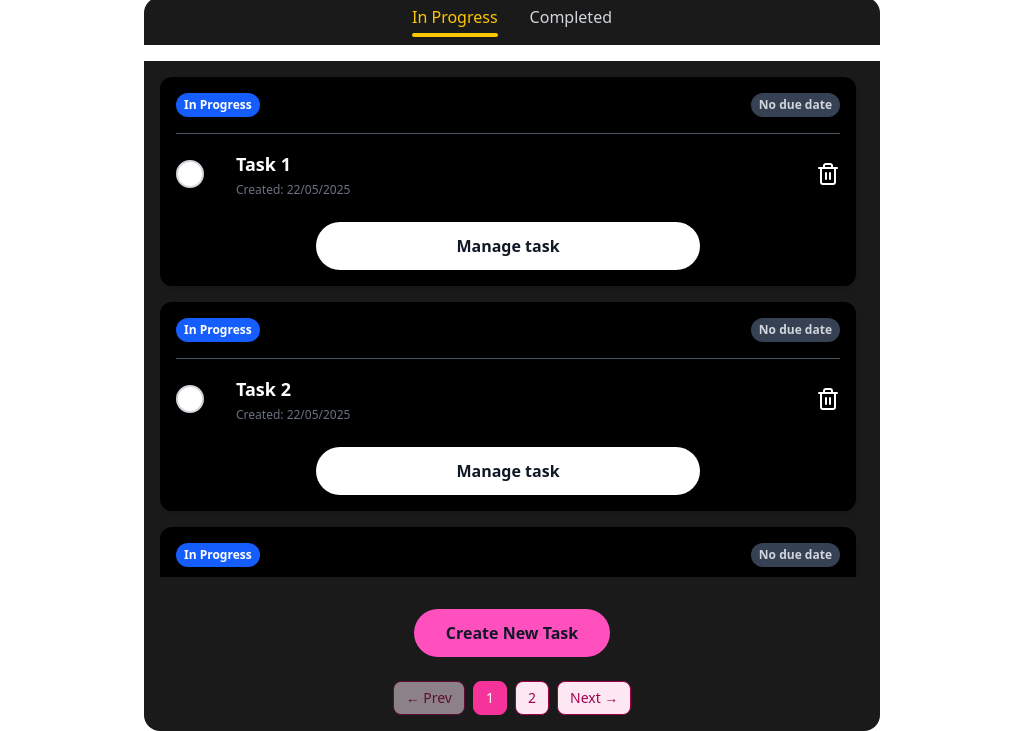
Test case: Paginates a list of tasks if it is greater than 20
This screenshot has width=1024, height=731.
(page scrolled)
Expected: the heading "Task 1" is shown, [236,152,291,176]
Expected: the text "Task 21" is not shown
Click the button "2" at (532, 698), box [515,681,549,715]
(page scrolled)
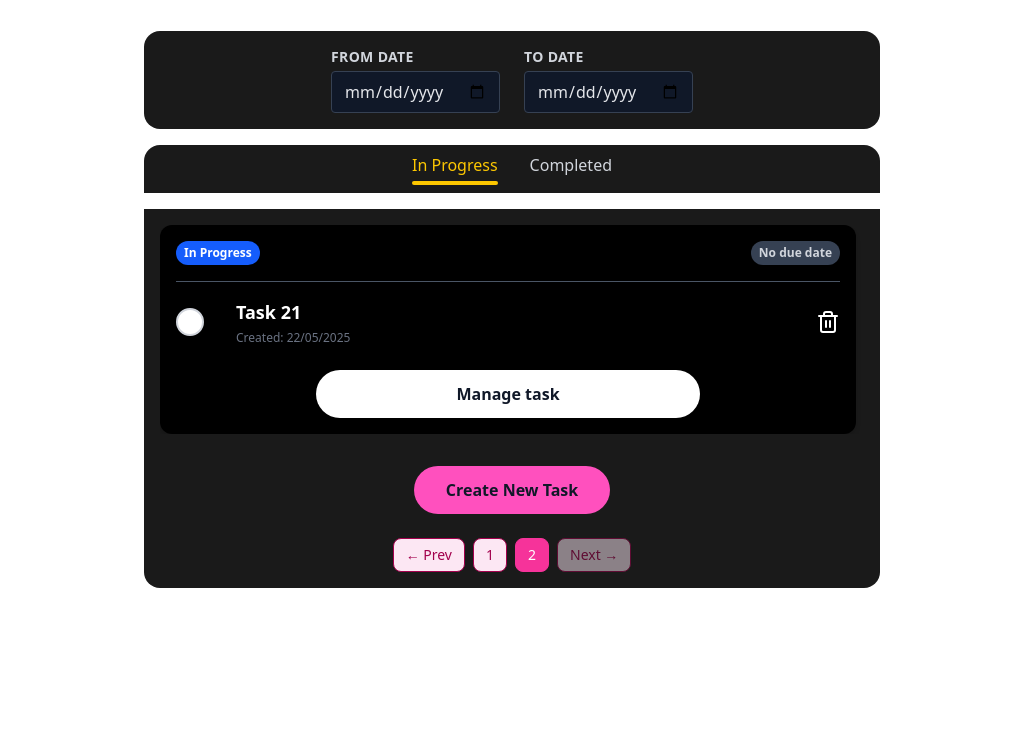
Now the heading "Task 21" is shown, box [236,300,301,324]
